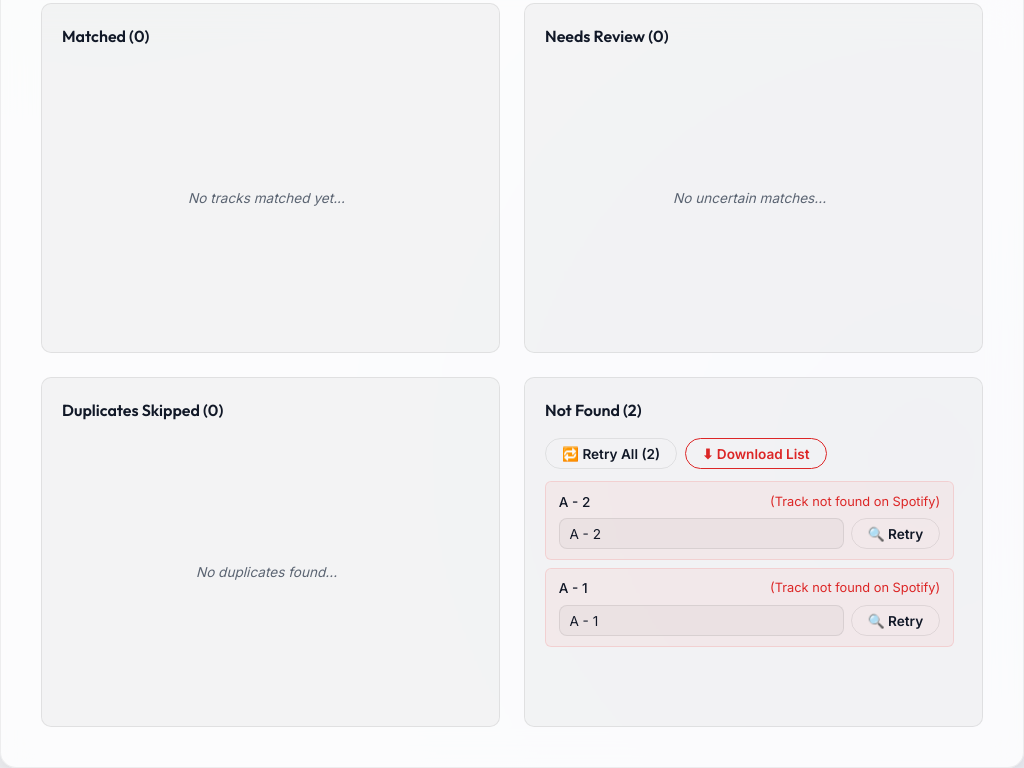
Test: ImporterProgress › retries every failed track at once via Retry All, without needing individual clicks
This screenshot has width=1024, height=768.
(page scrolled)
Expected: the heading "Not Found (2)" is shown, [545, 398, 642, 422]
Click the button "🔁 Retry All (2)" at (611, 454), box [545, 438, 677, 469]
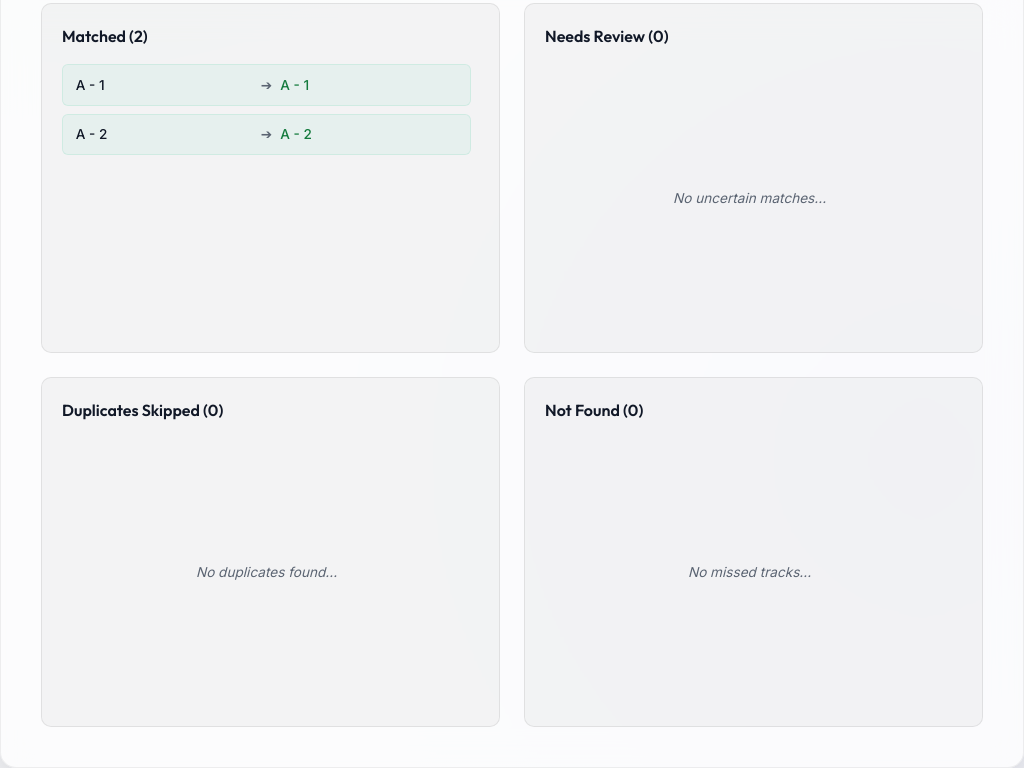
Expected: the heading "Matched (2)" is shown, [62, 24, 148, 48]
Expected: the heading "Not Found (0)" is shown, [545, 398, 643, 422]
